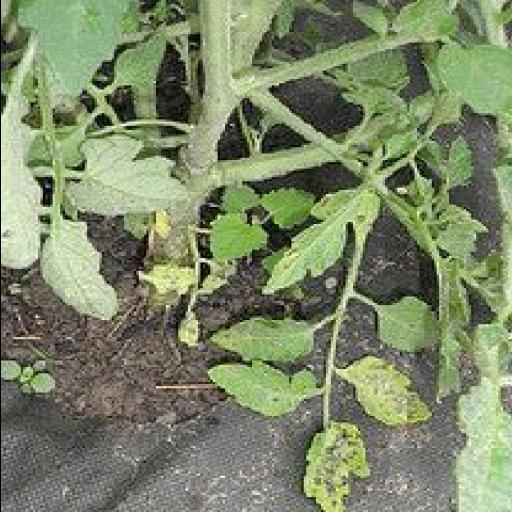disease_tomato: (328, 354, 438, 431), (293, 418, 367, 512)
